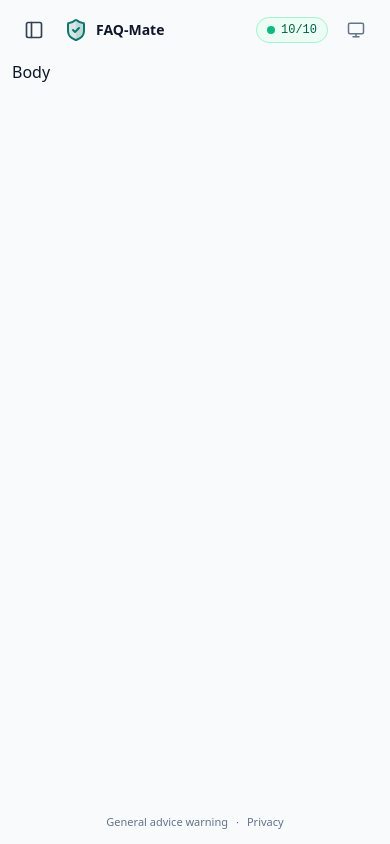
Responsive navigation › places the desktop sidebar toggle inside the sidebar and New Chat first in navigation
Expected: the heading "FAQ-Mate" is shown, x1=96 y1=20 x2=164 y2=40
Click the button with test id "mobile-sidebar-toggle" at (34, 30), box x1=12 y1=8 x2=56 y2=52
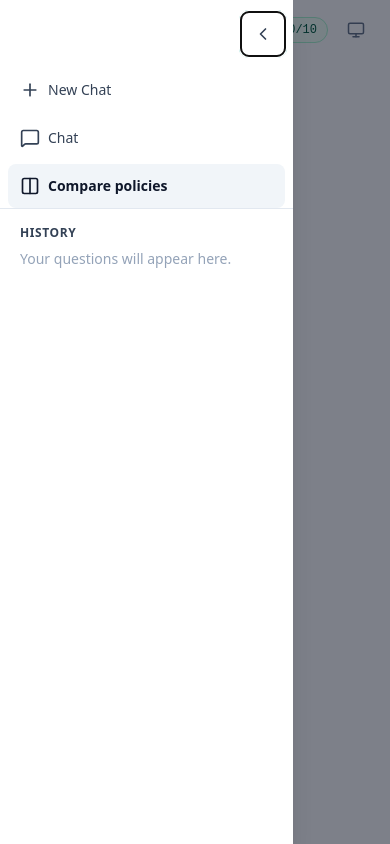
Expected: the dialog named "Navigation" is shown
